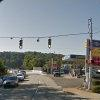Traffic light: (13, 35, 55, 53)
